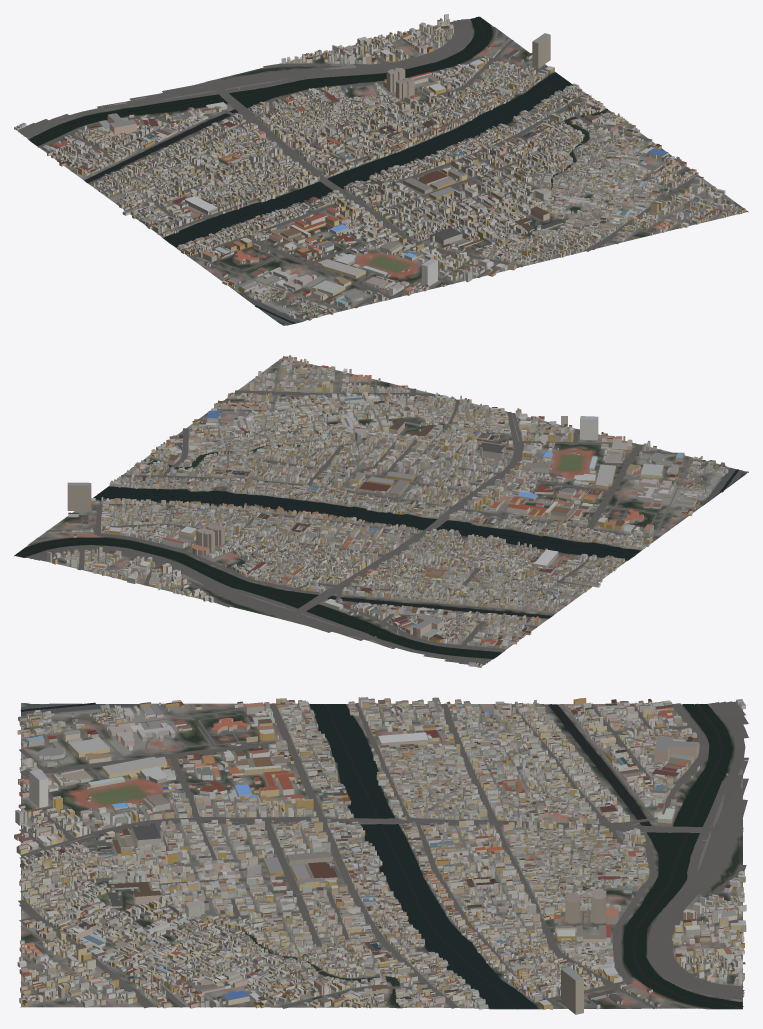
The picture shows the model from 3 angles, top to bottom: view 1: azimuth 30°, elevation 25°; view 2: azimuth 150°, elevation 25°; view 3: azimuth 270°, elevation 25°; orthographic projection. The views are drawn at different scales.
Parts seen in each view (by area): view 1: buildings, ground, roads, water; view 2: buildings, ground, roads, water; view 3: buildings, ground, roads, water.
Part boxes in pixels (box(x1,y1,x2,y2)): buildings: box(14, 14, 745, 320); ground: box(26, 19, 748, 325); roads: box(17, 19, 748, 319); water: box(29, 16, 607, 324); buildings: box(47, 355, 728, 667); ground: box(14, 357, 748, 666); roads: box(27, 359, 726, 665); water: box(15, 443, 742, 658); buildings: box(14, 697, 746, 1014); ground: box(21, 703, 742, 1009); roads: box(18, 701, 748, 1008); water: box(20, 702, 743, 1009).
Size of the model in its own units: 1442 by 76.5 by 1426.
